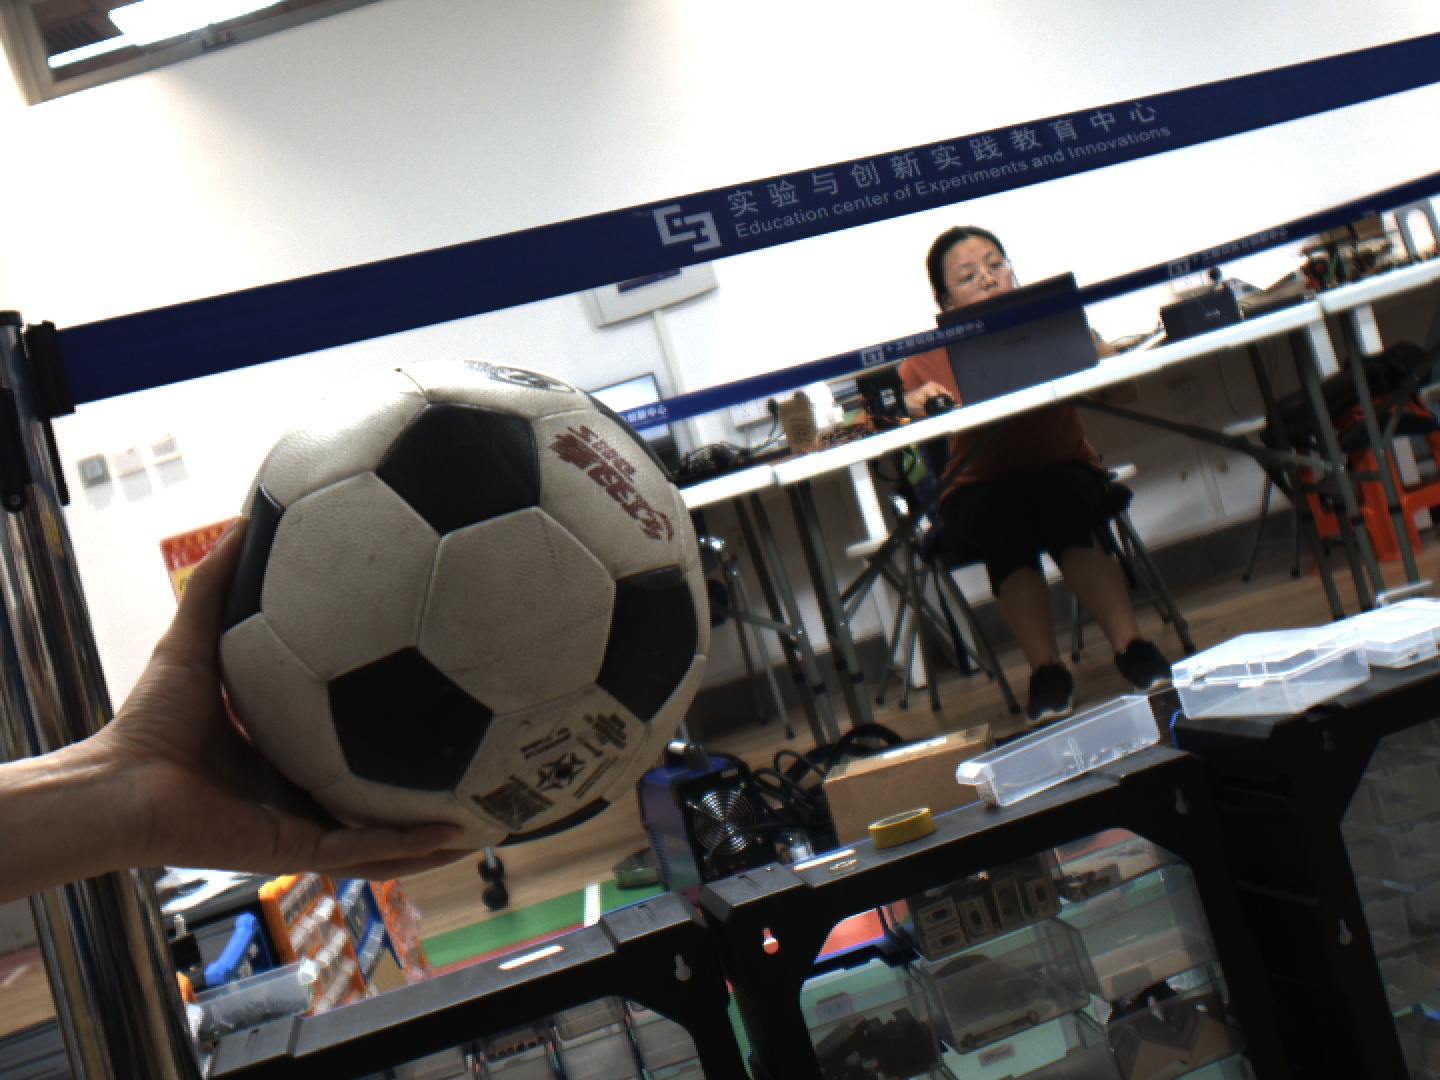ball: (218, 357, 717, 851)
